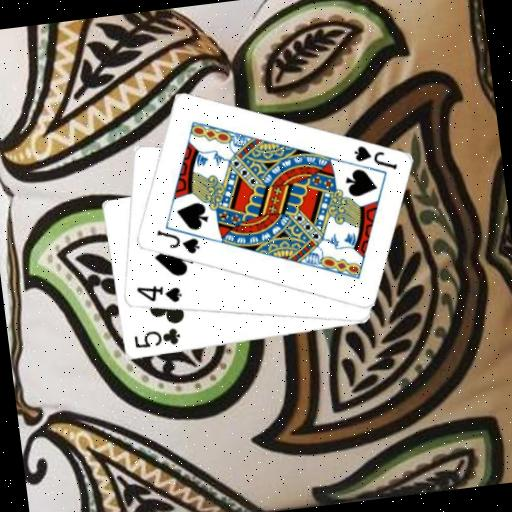4S: (132, 280, 184, 310)
5C: (130, 325, 183, 352)
JS: (350, 139, 399, 177), (152, 223, 202, 260)
